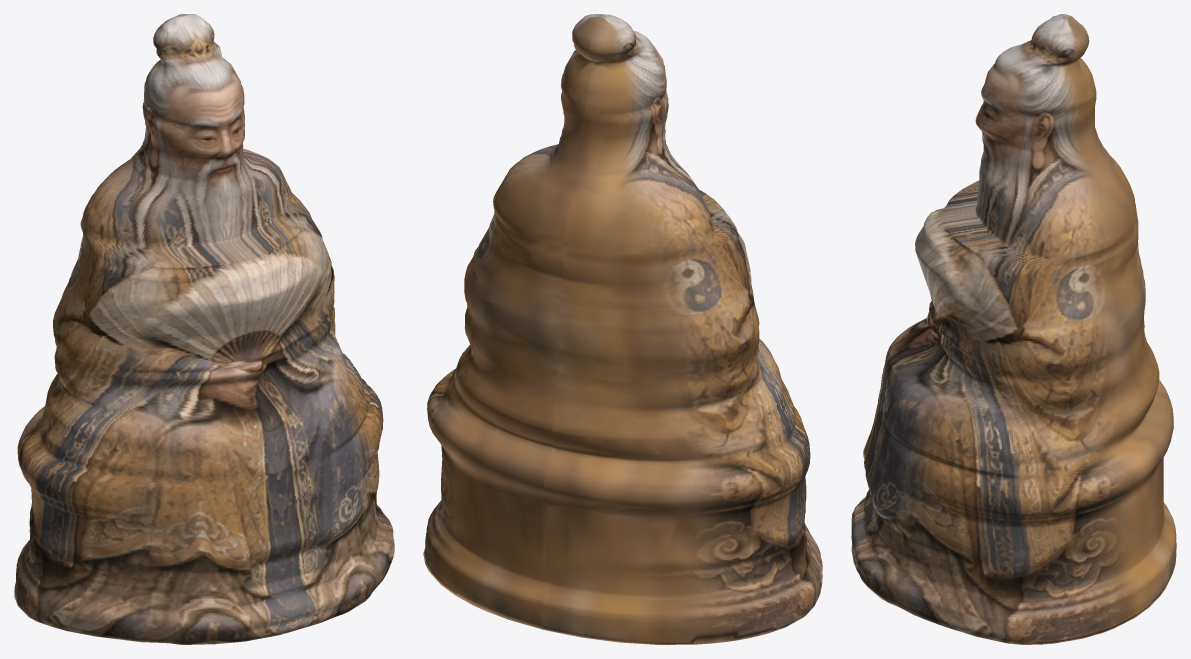
File: daode.glb
3 views of the same model, side by side, from view 1: azimuth 30°, elevation 25°; view 2: azimuth 150°, elevation 25°; view 3: azimuth 270°, elevation 25° (orthographic). The views are drawn at different scales.
Visible parts, largest first — view 1: daode; view 2: daode; view 3: daode.
Boxes of the visible parts, <box> form: daode: <box>14,14,394,644</box>; daode: <box>423,14,822,644</box>; daode: <box>851,14,1176,644</box>.
Size of the model in its own units: 0.669 by 1 by 0.5408.
1 material, 1 textured.
